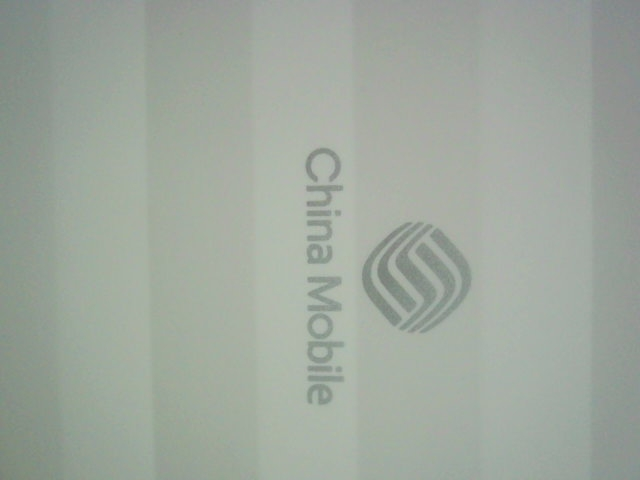AA_ChinaMobile: (267, 138, 490, 413)
